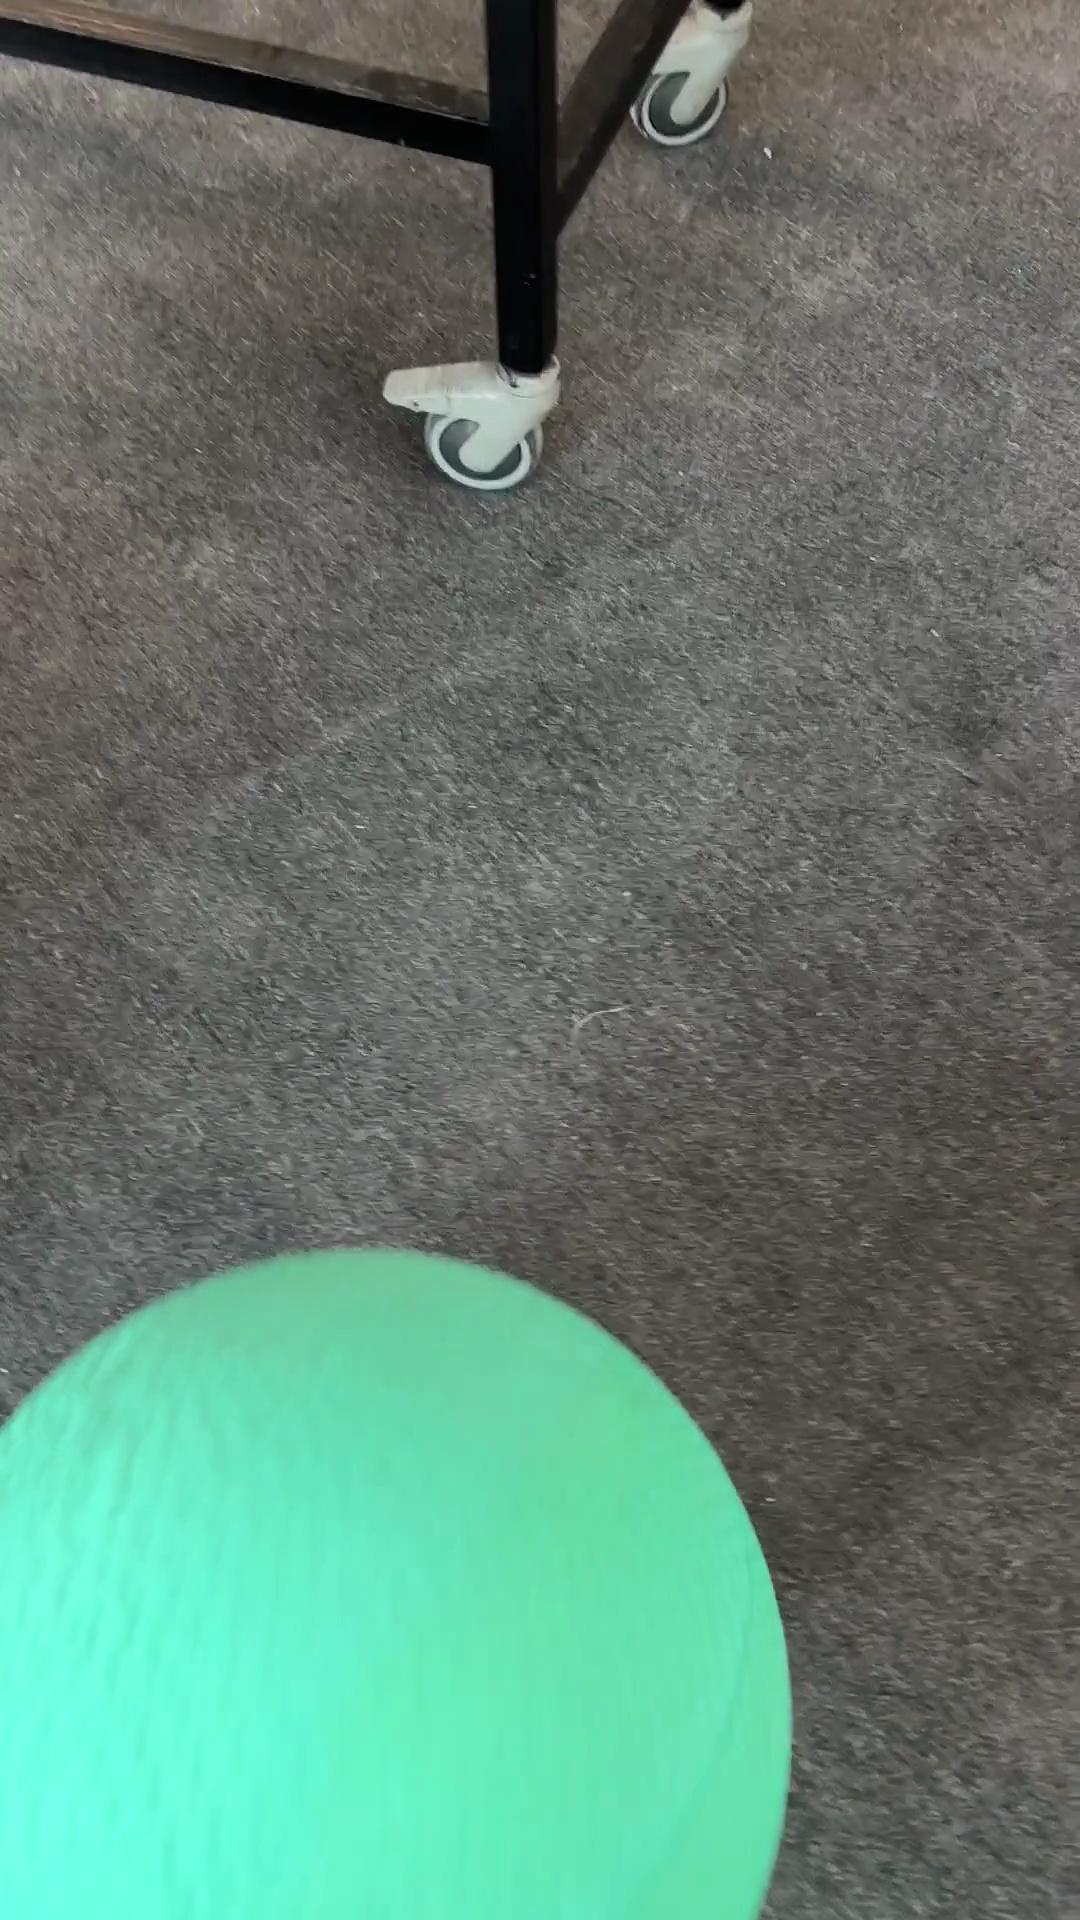ALGAE: (1, 1242, 795, 1916)
